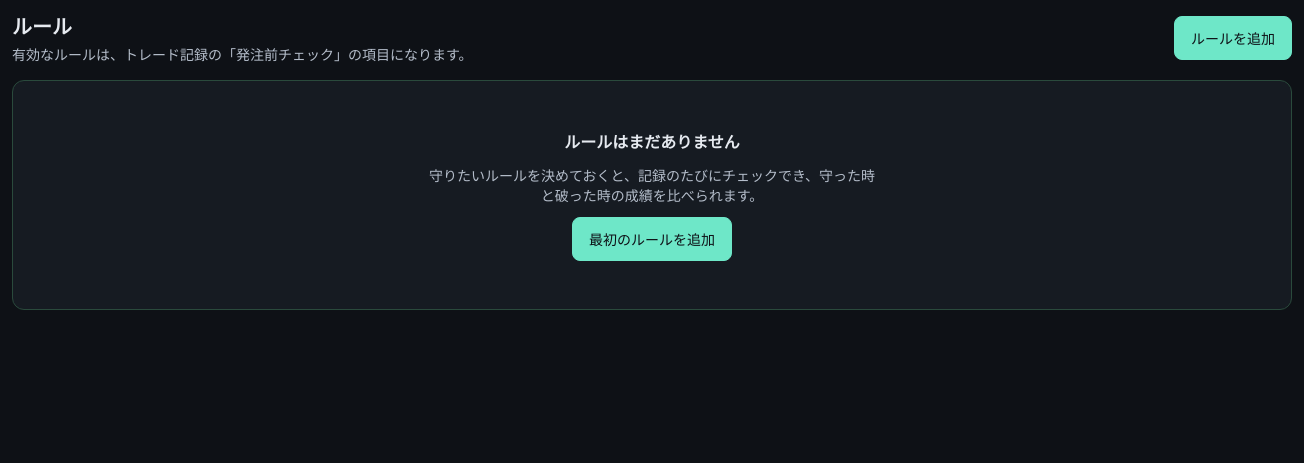
Test: ルール画面 › ルール名が空だと項目直下にエラーを出し、送信しない
The image size is (1304, 463).
Step 1. Click the button "最初のルールを追加" → (652, 239), box [572,217,732,261]
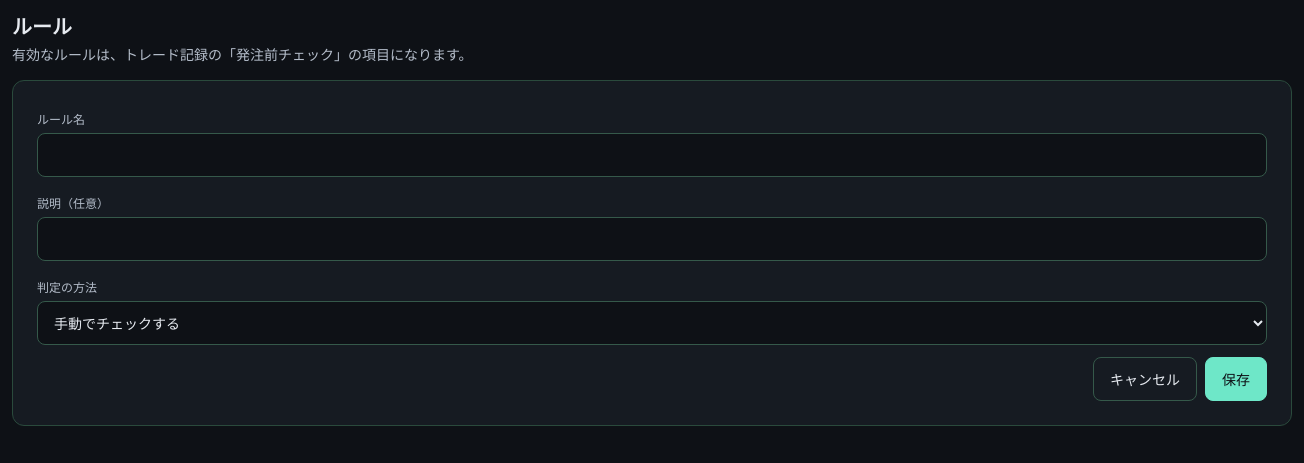
Step 2. Click the button "保存" → (1236, 379), box [1205,357,1267,401]
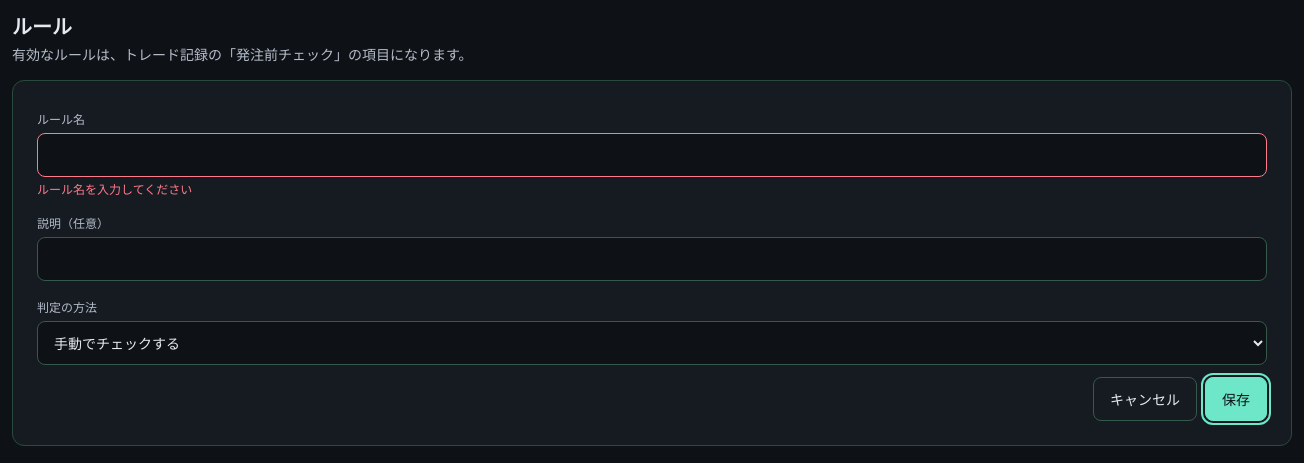
expect the message reads "ルール名を入力してください": met, box [37,180,192,197]
